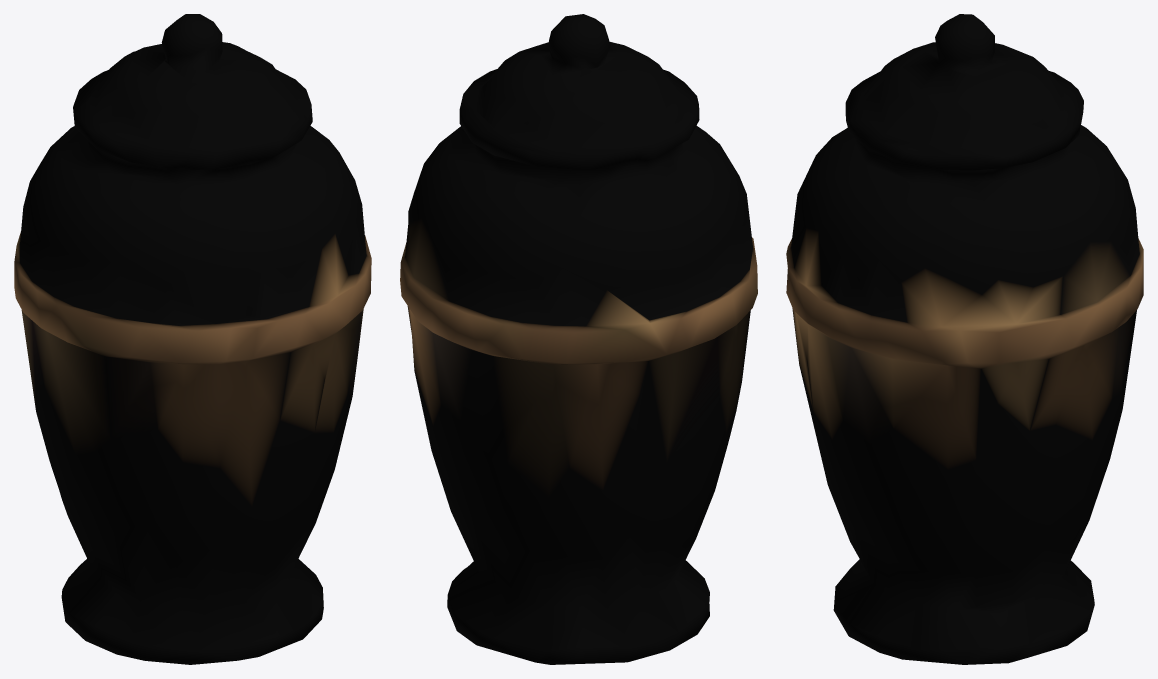
Rendered from gen3d-funeral-urn-lod1.glb.
3 renders of one model, left to right at view 1: azimuth 30°, elevation 25°; view 2: azimuth 150°, elevation 25°; view 3: azimuth 270°, elevation 25°, orthographic.
Visible parts, largest first — view 1: part_0; view 2: part_0; view 3: part_0.
Boxes of the visible parts, x1,y1,x2,y2 form: part_0: [14, 14, 371, 664]; part_0: [400, 14, 757, 664]; part_0: [786, 14, 1143, 664].
Bounding box in the file's own units: 0.5513 × 1.01 × 0.5497.
